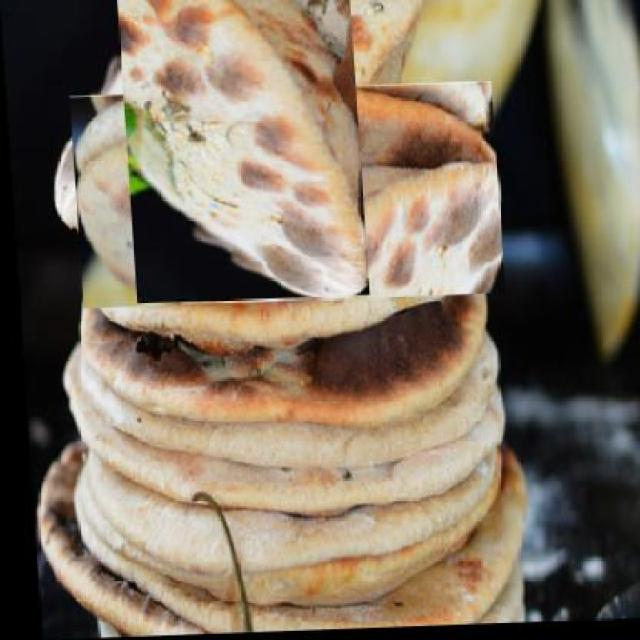chapati: (67, 84, 502, 310), (80, 0, 403, 269)
